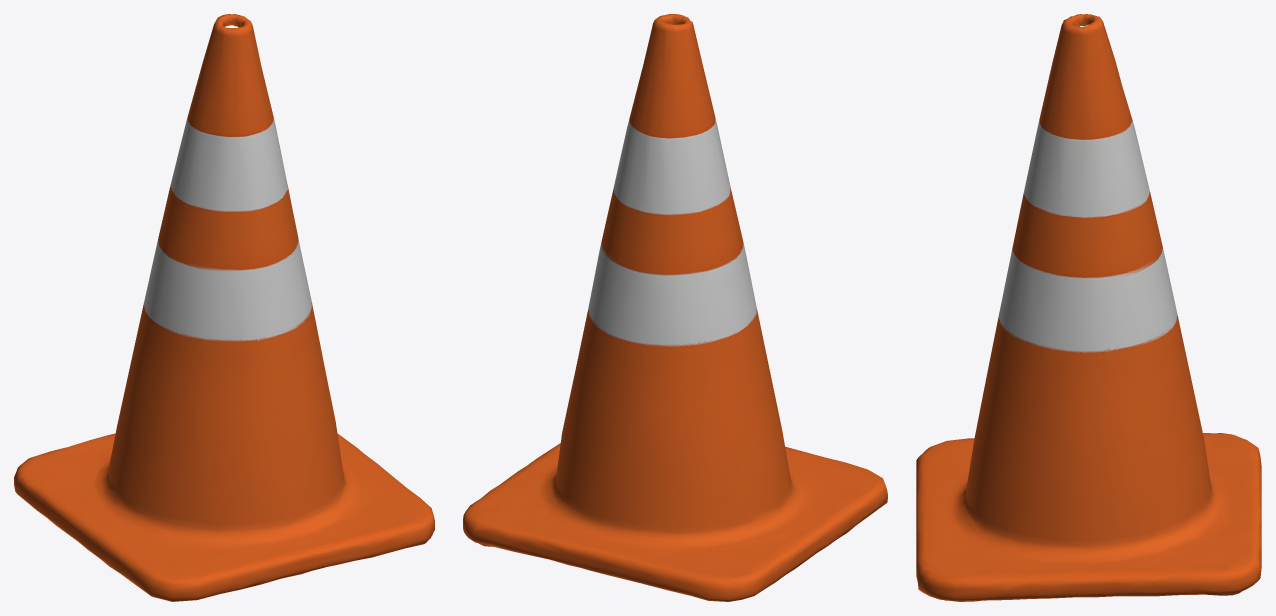
The picture shows the model from 3 angles, left to right: view 1: azimuth 30°, elevation 25°; view 2: azimuth 150°, elevation 25°; view 3: azimuth 270°, elevation 25°; orthographic projection. The views are drawn at different scales.
Visible parts, largest first — view 1: tripo_node_c0a2ef70-44d9-4d7e-9373-817d41693542; view 2: tripo_node_c0a2ef70-44d9-4d7e-9373-817d41693542; view 3: tripo_node_c0a2ef70-44d9-4d7e-9373-817d41693542.
Boxes of the visible parts, bbox=[...] form: tripo_node_c0a2ef70-44d9-4d7e-9373-817d41693542: bbox=[14, 14, 434, 601]; tripo_node_c0a2ef70-44d9-4d7e-9373-817d41693542: bbox=[463, 14, 887, 601]; tripo_node_c0a2ef70-44d9-4d7e-9373-817d41693542: bbox=[916, 14, 1261, 601].
Bounding box in the file's own units: 0.4233 × 0.7 × 0.4205.
Materials: 1 (1 with a texture image).
